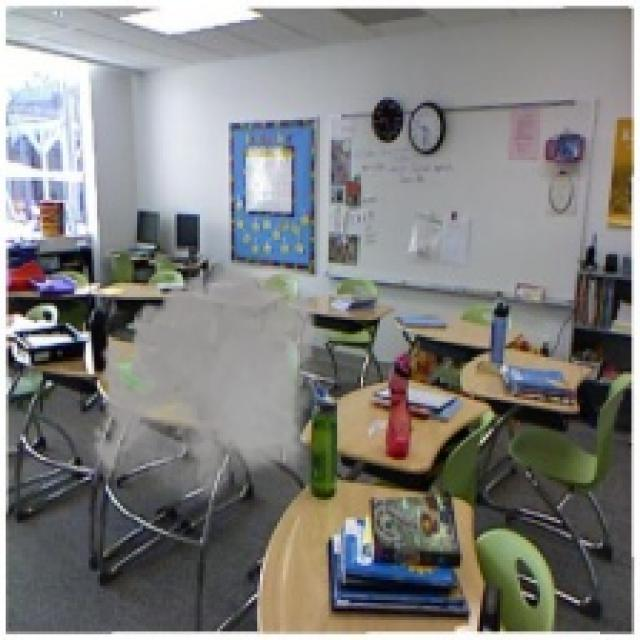smoke: (86, 249, 326, 514)
